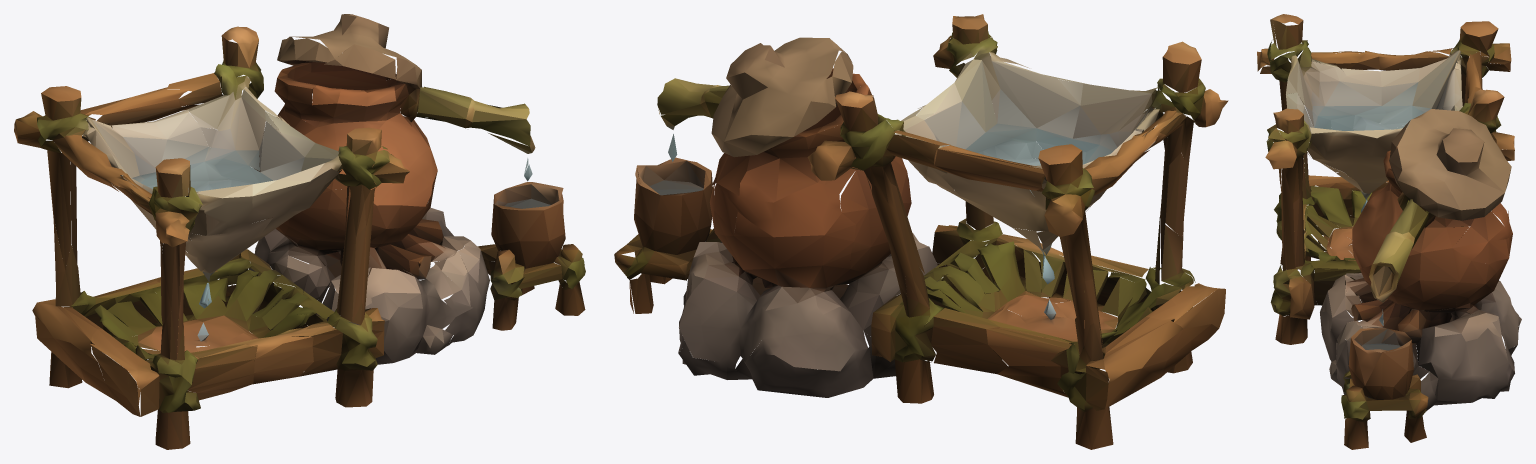
The model's file is building-desalinator.glb.
3 views of the same model, side by side, from view 1: azimuth 30°, elevation 25°; view 2: azimuth 150°, elevation 25°; view 3: azimuth 270°, elevation 25° (orthographic). The views are drawn at different scales.
Visible parts, largest first — view 1: 0_desalinator; view 2: 0_desalinator; view 3: 0_desalinator.
Part boxes in pixels (x1,y1,x2,y2): 0_desalinator: (14,14,585,449); 0_desalinator: (614,14,1228,449); 0_desalinator: (1257,14,1521,449).
Bounding box in the file's own units: 1.92 × 1.09 × 1.04.
